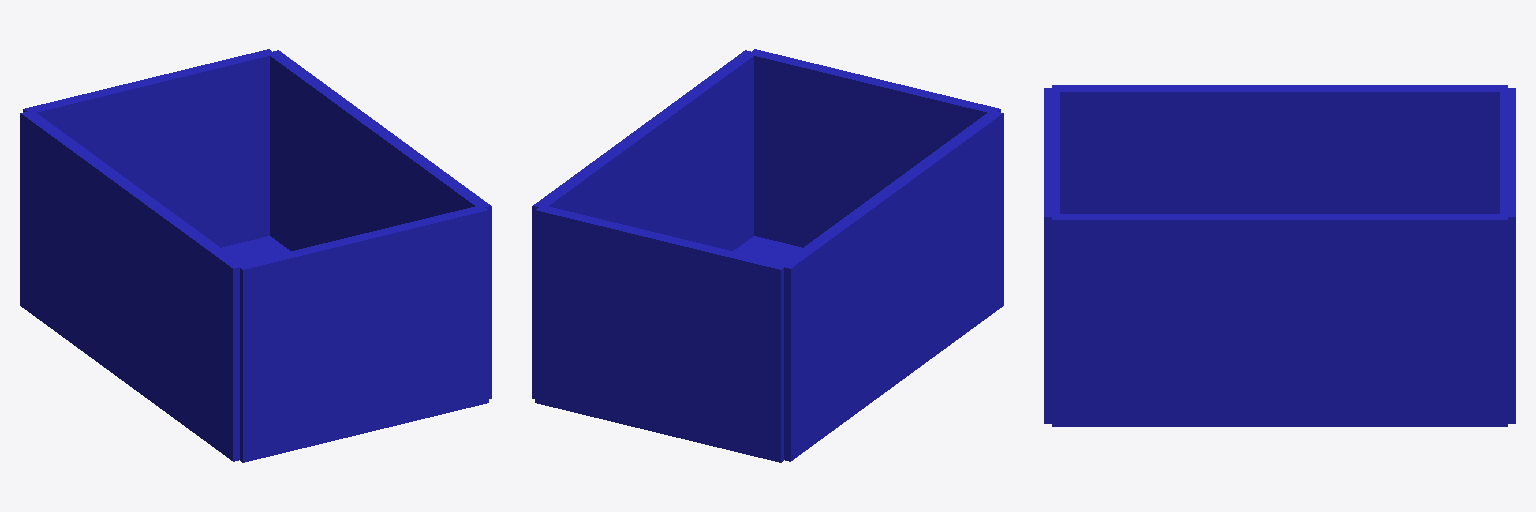
URDF robot description (block_bin):
<robot name="block_bin">
  <link name="base_link">
    <collision>
      <origin xyz="0 0 0.005" />
      <geometry>
        <box size="0.2 0.3 0.01" />
      </geometry>
    </collision>
    <visual>
      <origin xyz="0 0 0.005" />
      <material name="c">
        <color rgba="0.2 0.2 0.8 1.0" />
      </material>
      <geometry>
        <box size="0.2 0.3 0.01" />
      </geometry>
    </visual>
    <collision>
      <origin xyz="0. -.15 0.075" />
      <geometry>
        <box size="0.2 0.01 0.15" />
      </geometry>
    </collision>
    <visual>
      <origin xyz="0. -.15 0.075" />
      <material name="c">
        <color rgba="0.2 0.2 0.8 1.0" />
      </material>
      <geometry>
        <box size="0.2 0.01 0.15" />
      </geometry>
    </visual>
    <collision>
      <origin xyz="0. .15 0.075" />
      <geometry>
        <box size="0.2 0.01 0.15" />
      </geometry>
    </collision>
    <visual>
      <origin xyz="0. .15 0.075" />
      <material name="c">
        <color rgba="0.2 0.2 0.8 1.0" />
      </material>
      <geometry>
        <box size="0.2 0.01 0.15" />
      </geometry>
    </visual>
    <collision>
      <origin xyz="-.1 0. 0.075" />
      <geometry>
        <box size="0.01 0.3 0.15" />
      </geometry>
    </collision>
    <visual>
      <origin xyz="-.1 0. 0.075" />
      <material name="c">
        <color rgba="0.2 0.2 0.8 1.0" />
      </material>
      <geometry>
        <box size="0.01 0.3 0.15" />
      </geometry>
    </visual>
    <collision>
      <origin xyz=".1 0. 0.075" />
      <geometry>
        <box size="0.01 0.3 0.15" />
      </geometry>
    </collision>
    <visual>
      <origin xyz=".1 0. 0.075" />
      <material name="c">
        <color rgba="0.2 0.2 0.8 1.0" />
      </material>
      <geometry>
        <box size="0.01 0.3 0.15" />
      </geometry>
    </visual>
  </link>
</robot>

--- What the picture shows (computed from the rendered views, not written in the file) ---
Views: 3 orthographic renders of the robot side by side, from view 1: azimuth 30°, elevation 25°; view 2: azimuth 150°, elevation 25°; view 3: azimuth 270°, elevation 25°.
Model block_bin with 1 links and 0 joints (none), rooted at base_link, posed all joints at 0.
Visible links, largest first — view 1: base_link; view 2: base_link; view 3: base_link.
Boxes of the visible links, <box> form: base_link: <box>20,49,491,462</box>; base_link: <box>532,49,1003,462</box>; base_link: <box>1044,85,1515,426</box>.
Bounding box of the posed robot: 0.21 × 0.31 × 0.15 m (x, y, z).
Geometry: primitives only (box / cylinder / sphere), no mesh files.